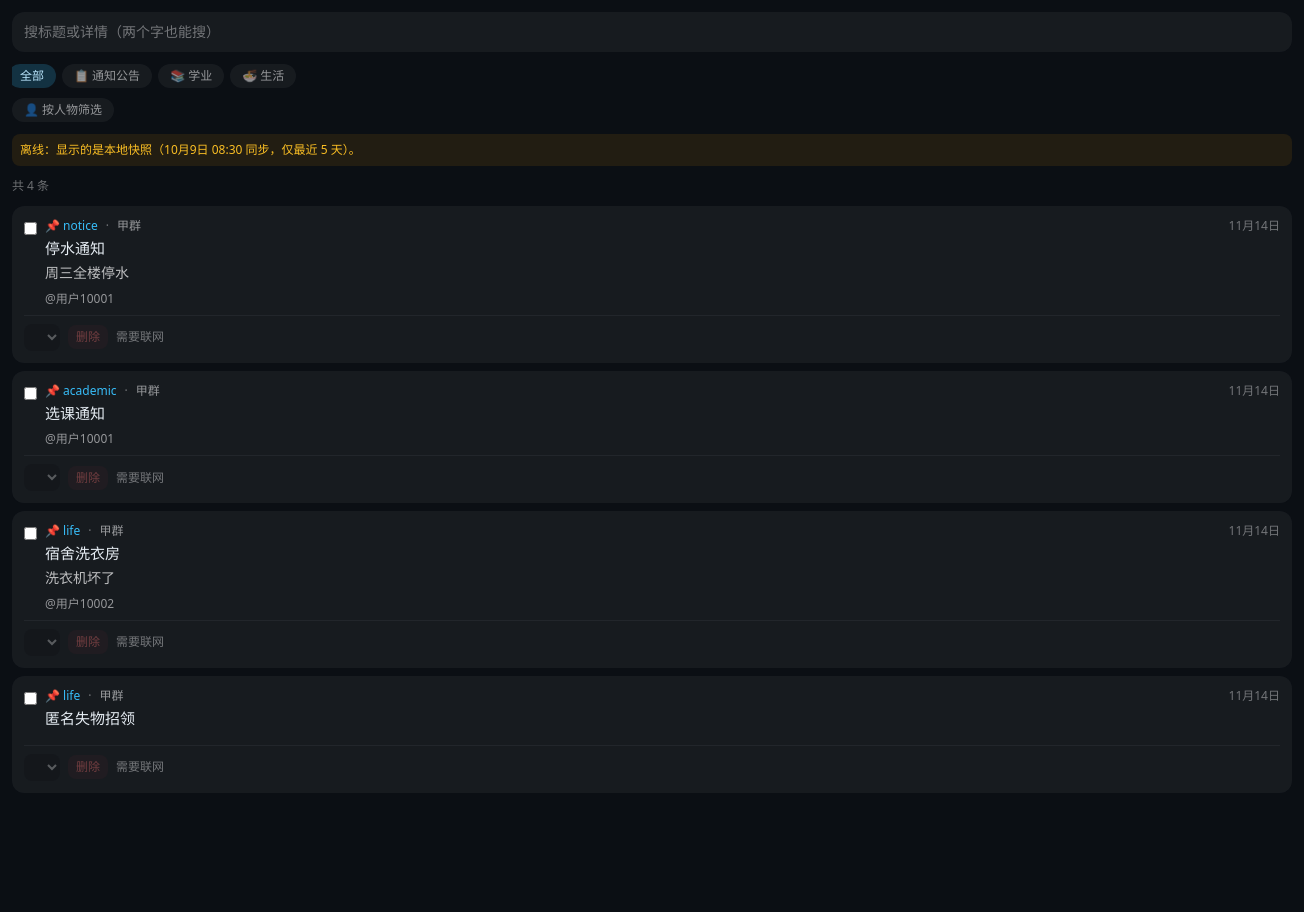
Scenario: ⭐ T6：离线 ⇒ 人物筛选器**有名单**(从快照取 persons),不是空名单/消失
The image size is (1304, 912).
Expected: the text "停水通知" is shown, [45,238,105,258]
Click the button "👤 按人物筛选". click: click(63, 110)
box: [12,98,114,122]
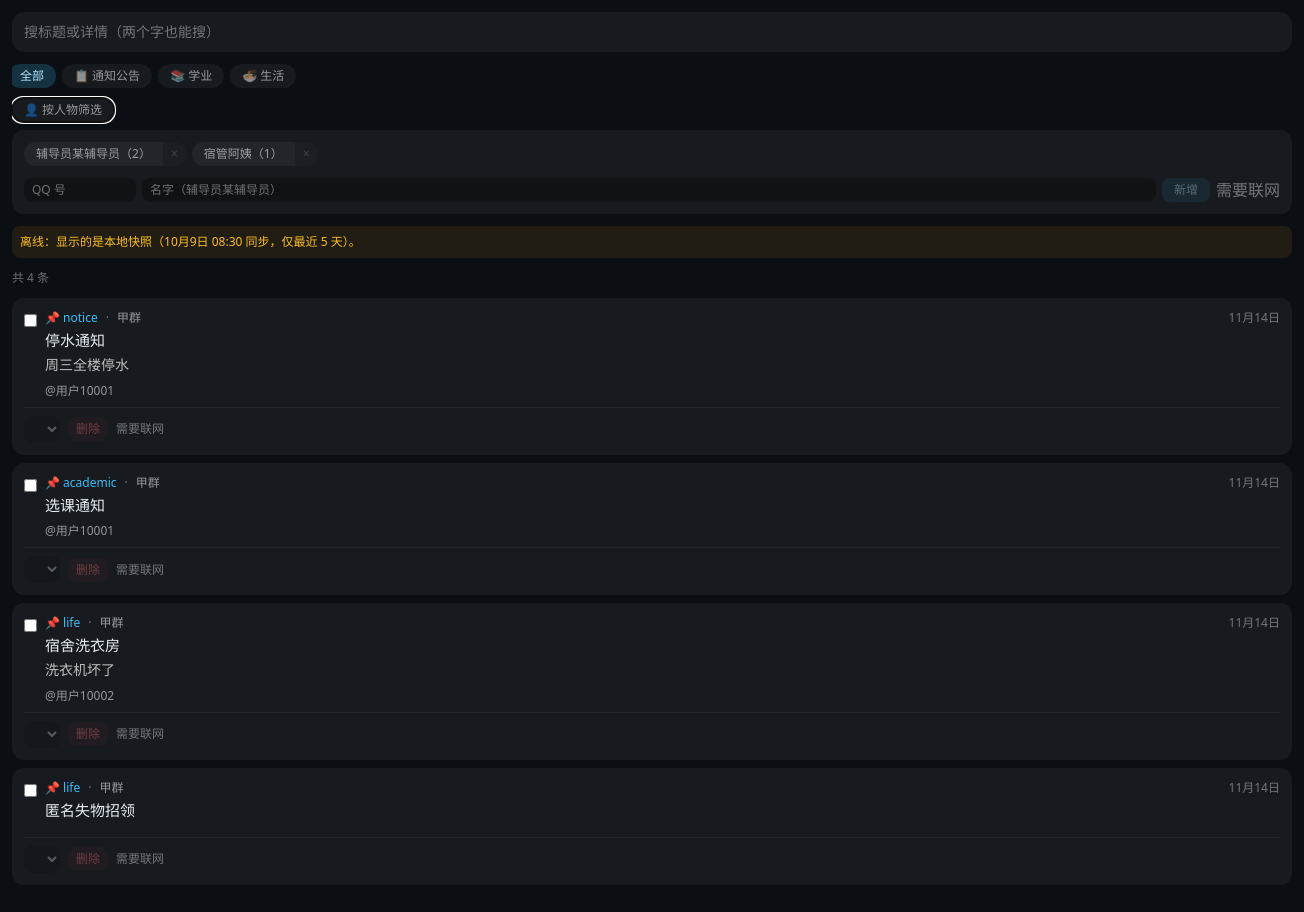
Expected: the button "辅导员某辅导员（2）" is shown, [24,142,163,166]
Expected: the button "宿管阿姨（1）" is shown, [192,142,295,166]
